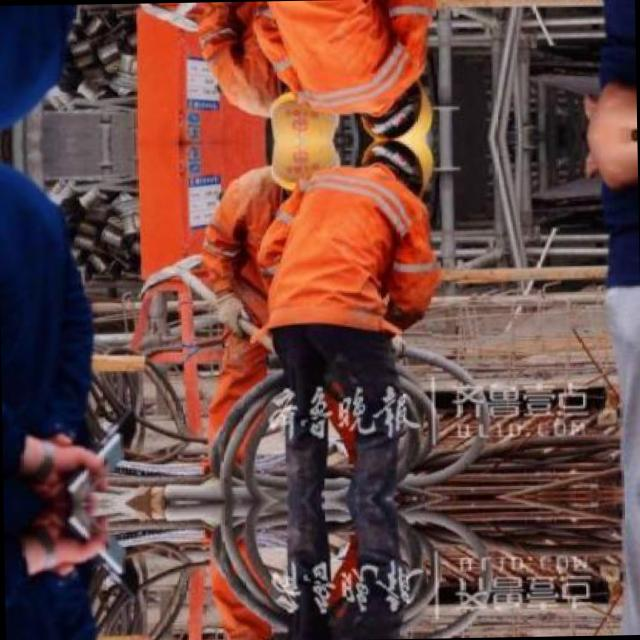helmet: (356, 139, 440, 193), (354, 84, 438, 138), (272, 97, 327, 141), (272, 140, 328, 183)
